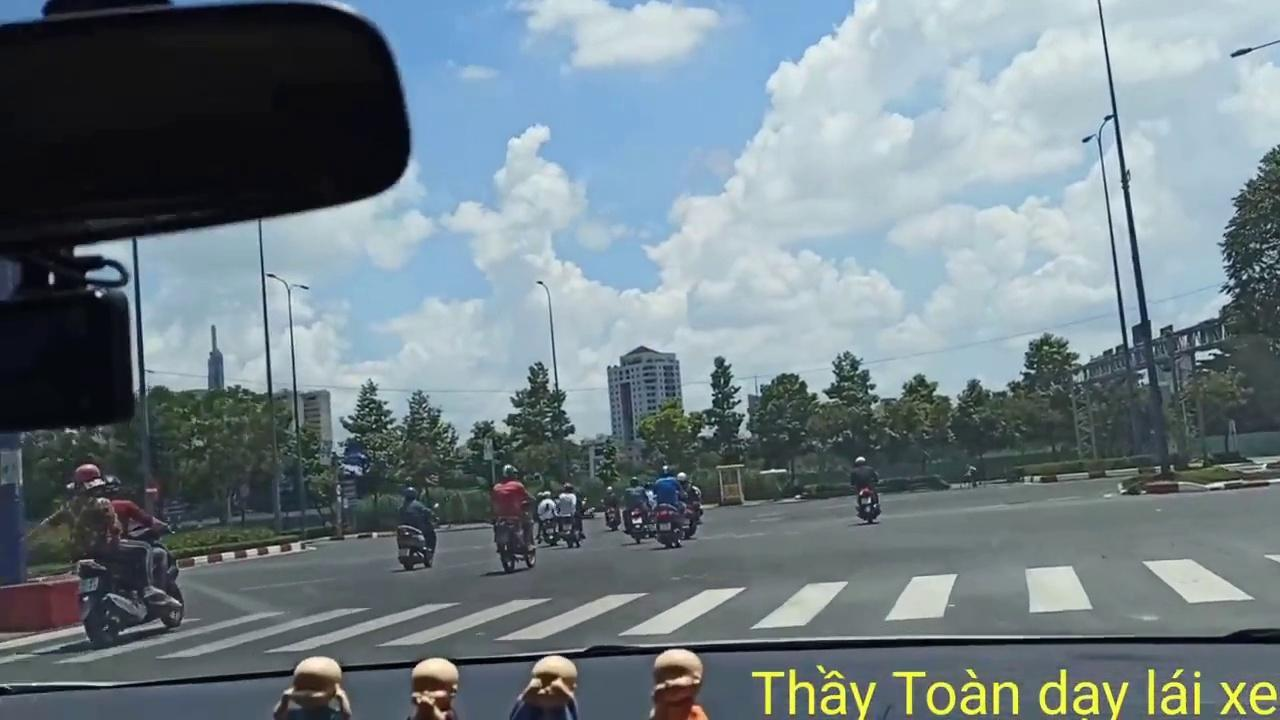Cấm đi ngược chiều: (142, 477, 162, 504)
